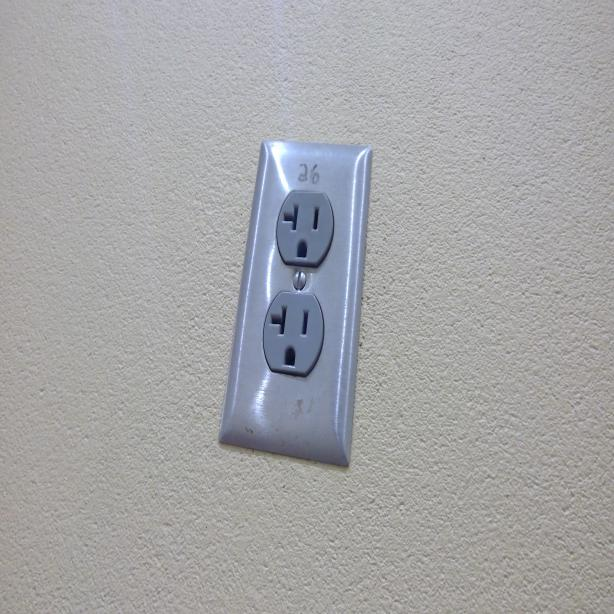typeb: (271, 184, 332, 267), (268, 302, 317, 373)
